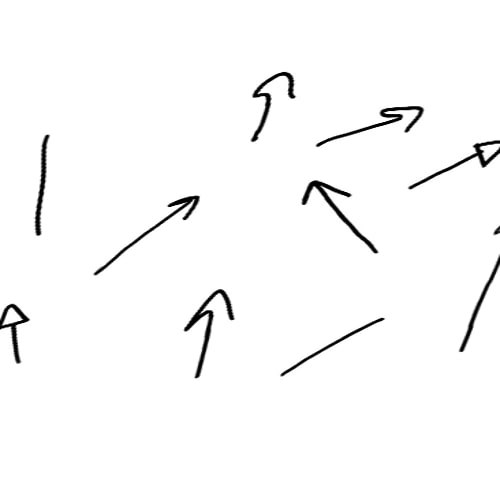arrow: (95, 194, 200, 276), (301, 181, 380, 254), (181, 289, 235, 378), (409, 139, 499, 188), (318, 107, 423, 146), (251, 69, 296, 141), (1, 303, 30, 366)
arrownohead: (280, 315, 383, 375), (453, 261, 500, 349), (30, 130, 52, 235)
